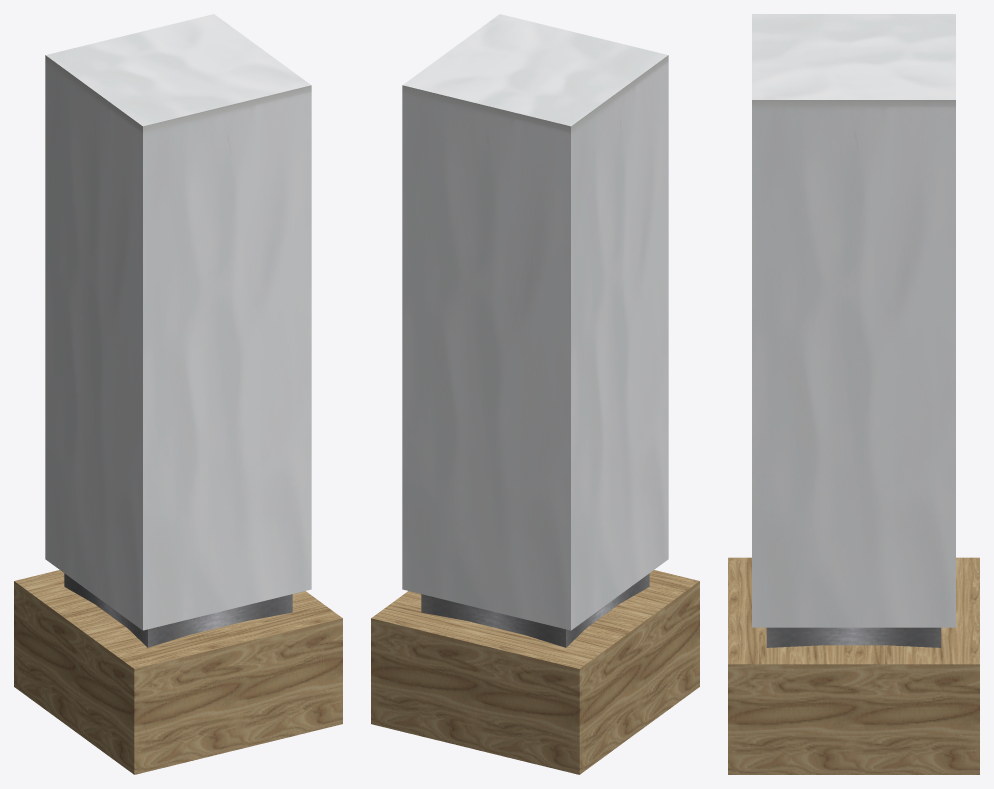
The model's file is Lamp002.FBX.
The picture shows the model from 3 angles, left to right: view 1: azimuth 30°, elevation 25°; view 2: azimuth 150°, elevation 25°; view 3: azimuth 270°, elevation 25°; orthographic projection. The views are drawn at different scales.
Visible parts, largest first — view 1: Lamp002; view 2: Lamp002; view 3: Lamp002.
Boxes of the visible parts, box(x1,y1,x2,y2) form: Lamp002: box(14, 14, 342, 774); Lamp002: box(371, 14, 699, 774); Lamp002: box(728, 14, 979, 774).
Size of the model in its own units: 12.36 by 36 by 12.36.
